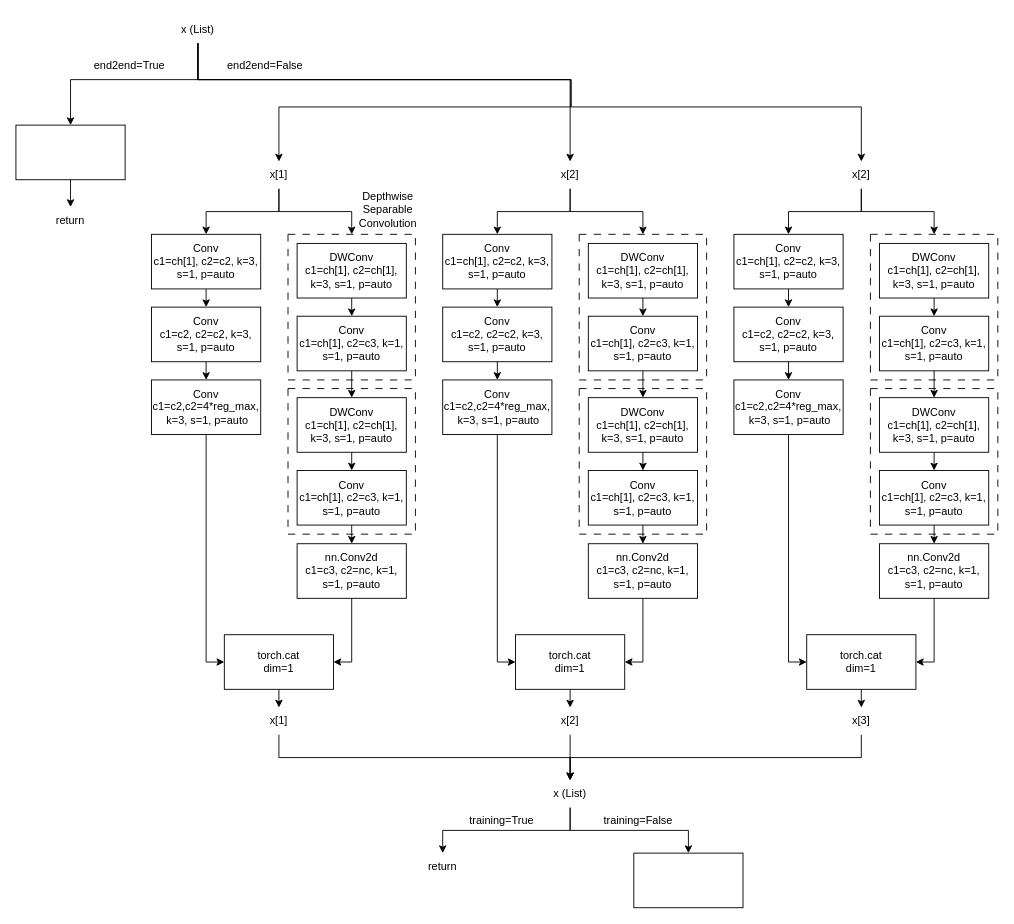
Some shapes in this 1014 by 924 pixel diagram are drawn without their labels. The box of each missing label's shape, as (x1, y1, x2, y2) in pixels:
_inference(): (633, 852, 743, 908)
forward_end2end(): (15, 124, 125, 180)
